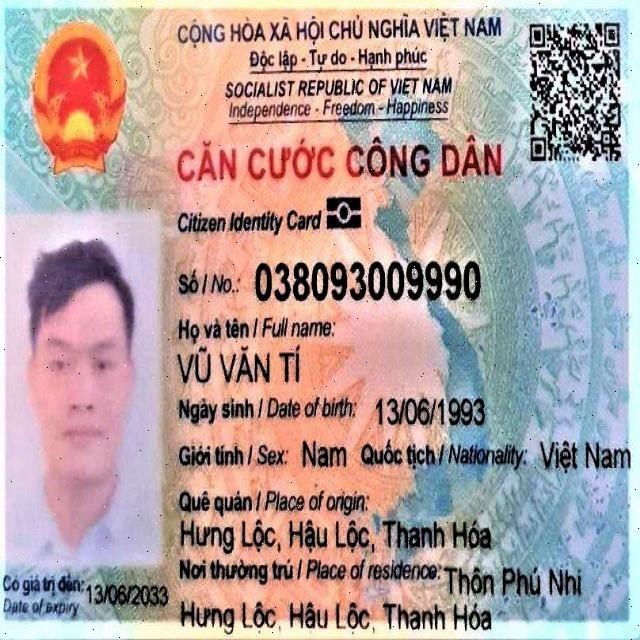current_place: (175, 590, 501, 640), (440, 559, 595, 603)
dob: (371, 386, 491, 436)
expire_date: (83, 576, 173, 617)
gender: (295, 426, 355, 479)
id: (251, 248, 486, 314)
name: (171, 338, 309, 392)
nationality: (528, 427, 638, 488)
origin_place: (177, 515, 499, 558)
qr: (522, 15, 626, 168)
